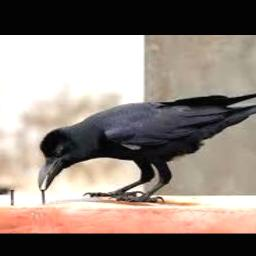Crow: (39, 89, 256, 203)
